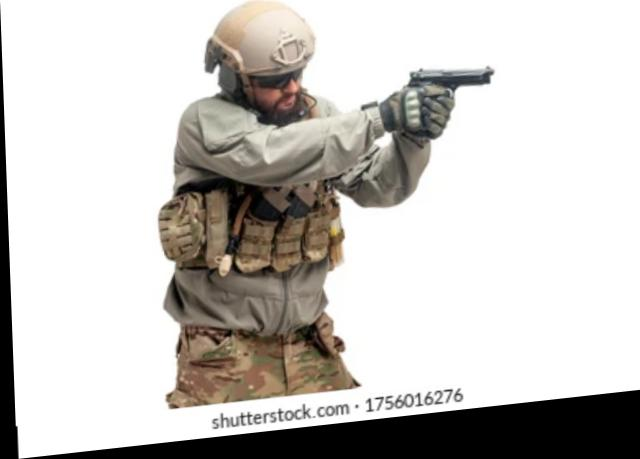other: (156, 6, 364, 413)
